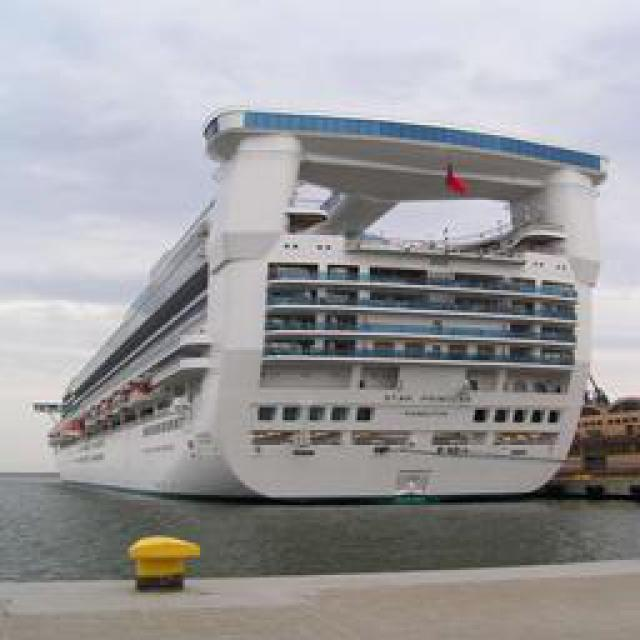Ship: (50, 100, 610, 503)
